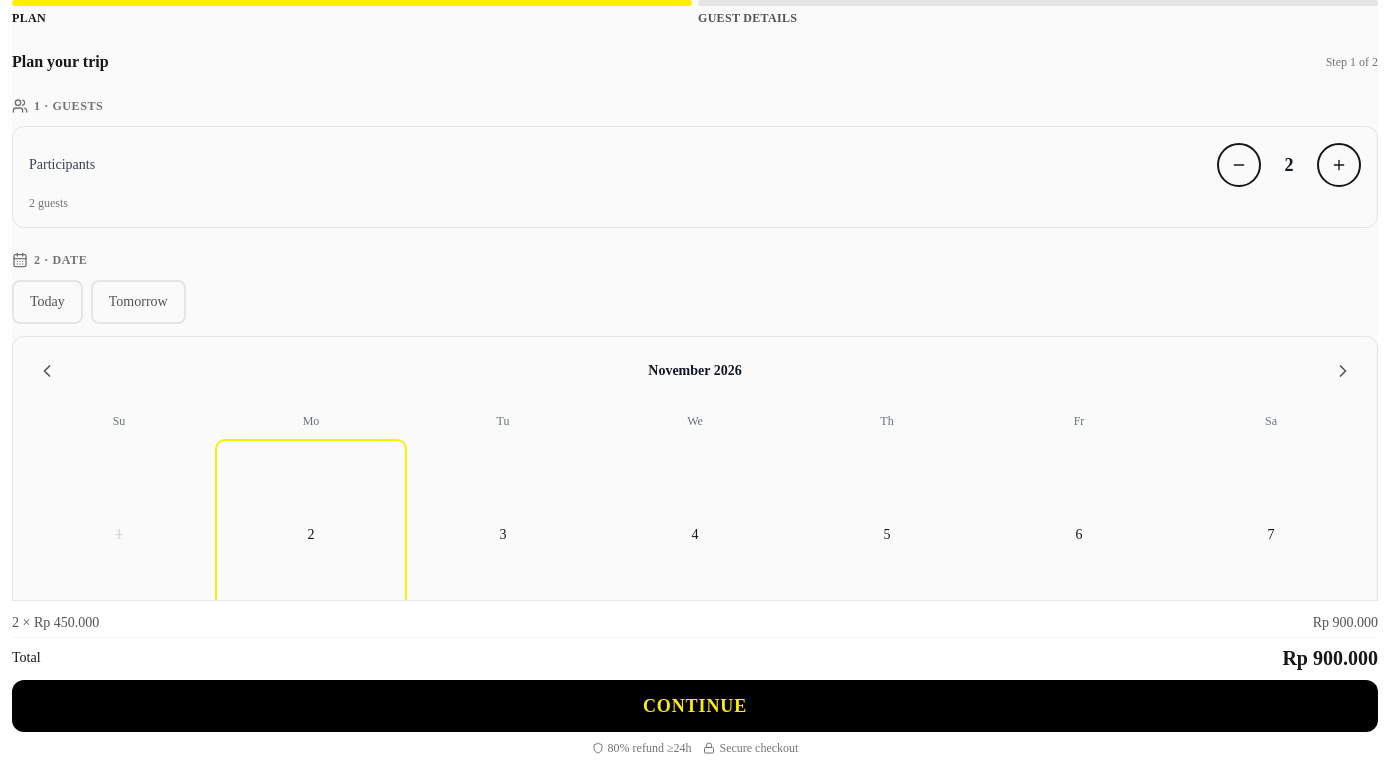
Test case: ExperienceBookingWidget two-step checkout › moves to guest details only when the plan is complete
The image size is (1390, 768).
Click the button "Continue" at point(695, 706), box top-left (12, 680), bottom-right (1378, 732)
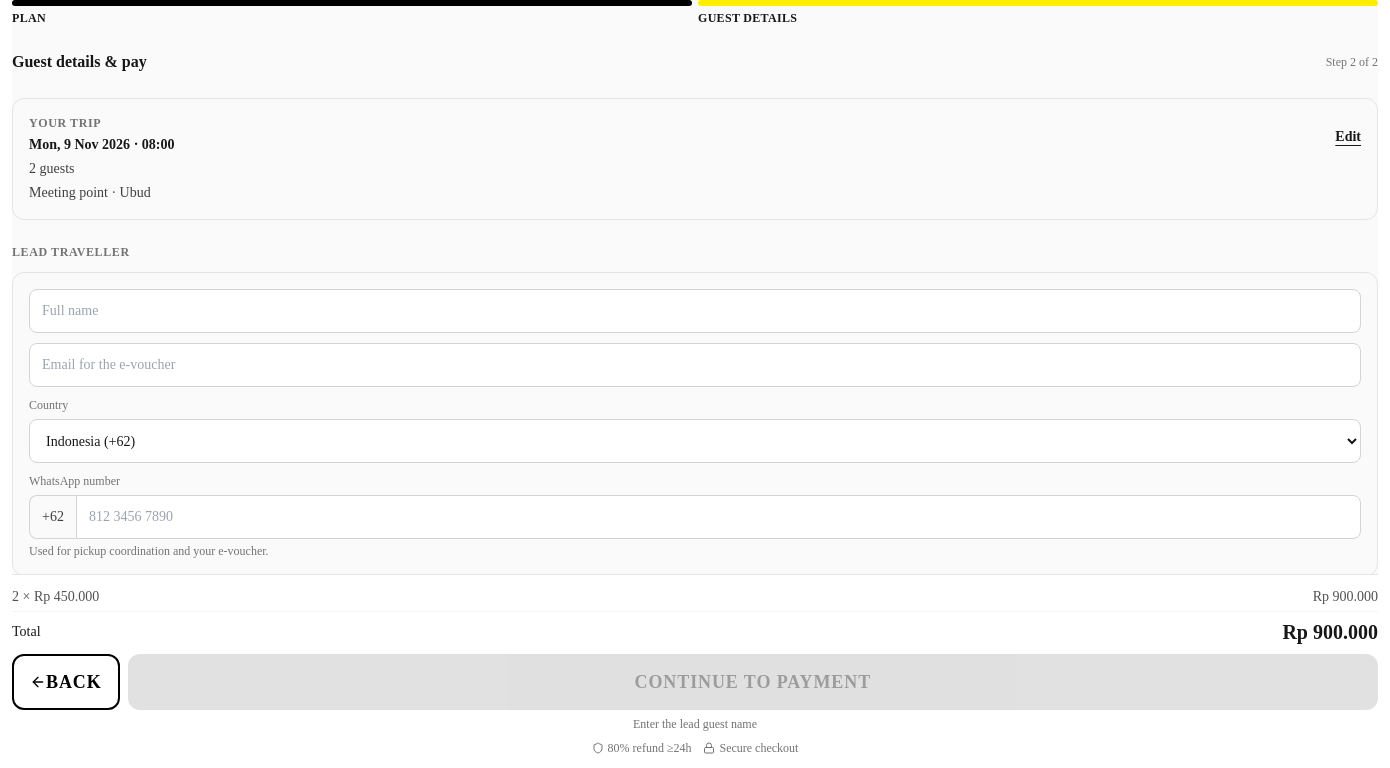
Check: the heading "Guest details & pay" is shown, box top-left (12, 50), bottom-right (147, 74)
Check: the text "Step 2 of 2" is shown, box top-left (1326, 54), bottom-right (1378, 70)
Check: the text "Mon, 9 Nov 2026 · 08:00" is shown, box top-left (29, 135), bottom-right (174, 155)
